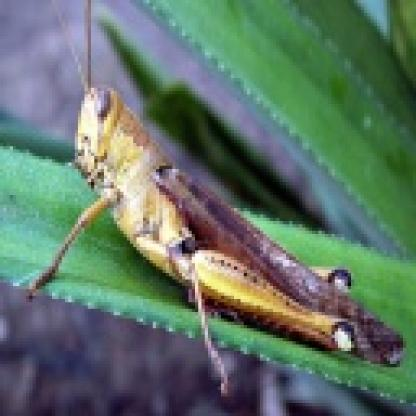grasshopper: (23, 0, 407, 387)
